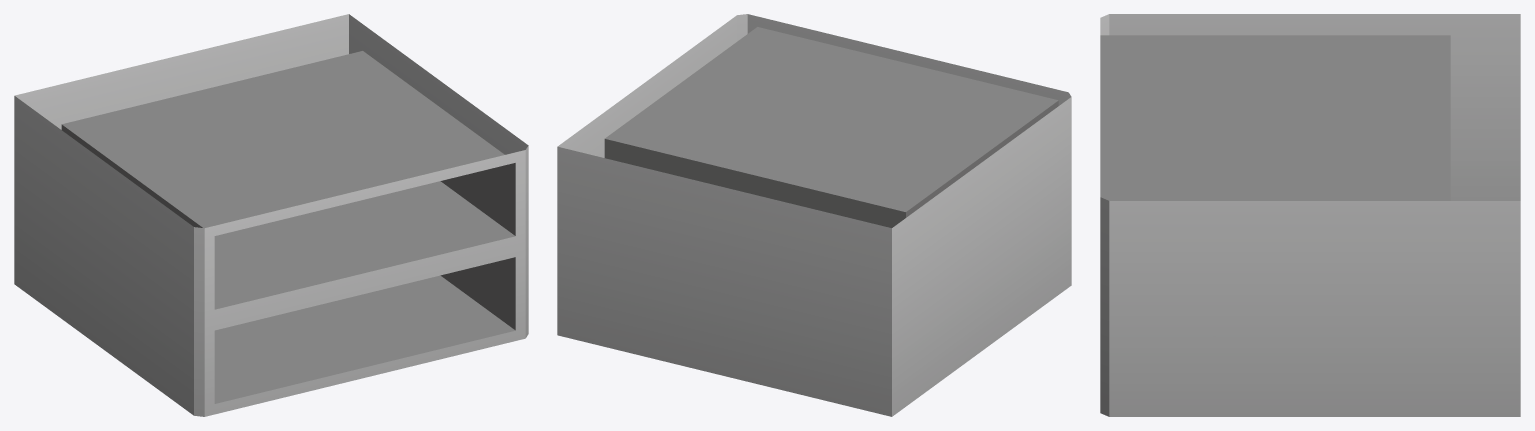
The model's file is Counter_01_v07_S_C02.fbx.
3 views of the same model, side by side, from view 1: azimuth 30°, elevation 25°; view 2: azimuth 150°, elevation 25°; view 3: azimuth 270°, elevation 25° (orthographic). The views are drawn at different scales.
Parts seen in each view (by area): view 1: Counter_01_v07_S_C02; view 2: Counter_01_v07_S_C02; view 3: Counter_01_v07_S_C02.
Part boxes in pixels (box(x1,y1,x2,y2)): Counter_01_v07_S_C02: box(14, 14, 528, 416); Counter_01_v07_S_C02: box(557, 14, 1071, 416); Counter_01_v07_S_C02: box(1100, 14, 1520, 416).
Bounding box in the file's own units: 100 × 53.91 × 94.97.
